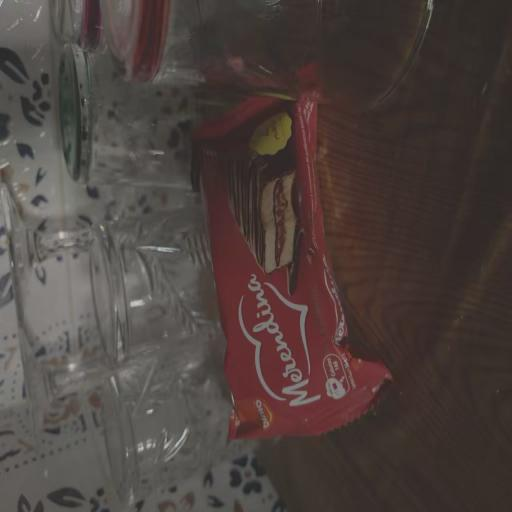merendina: (176, 71, 406, 460)
